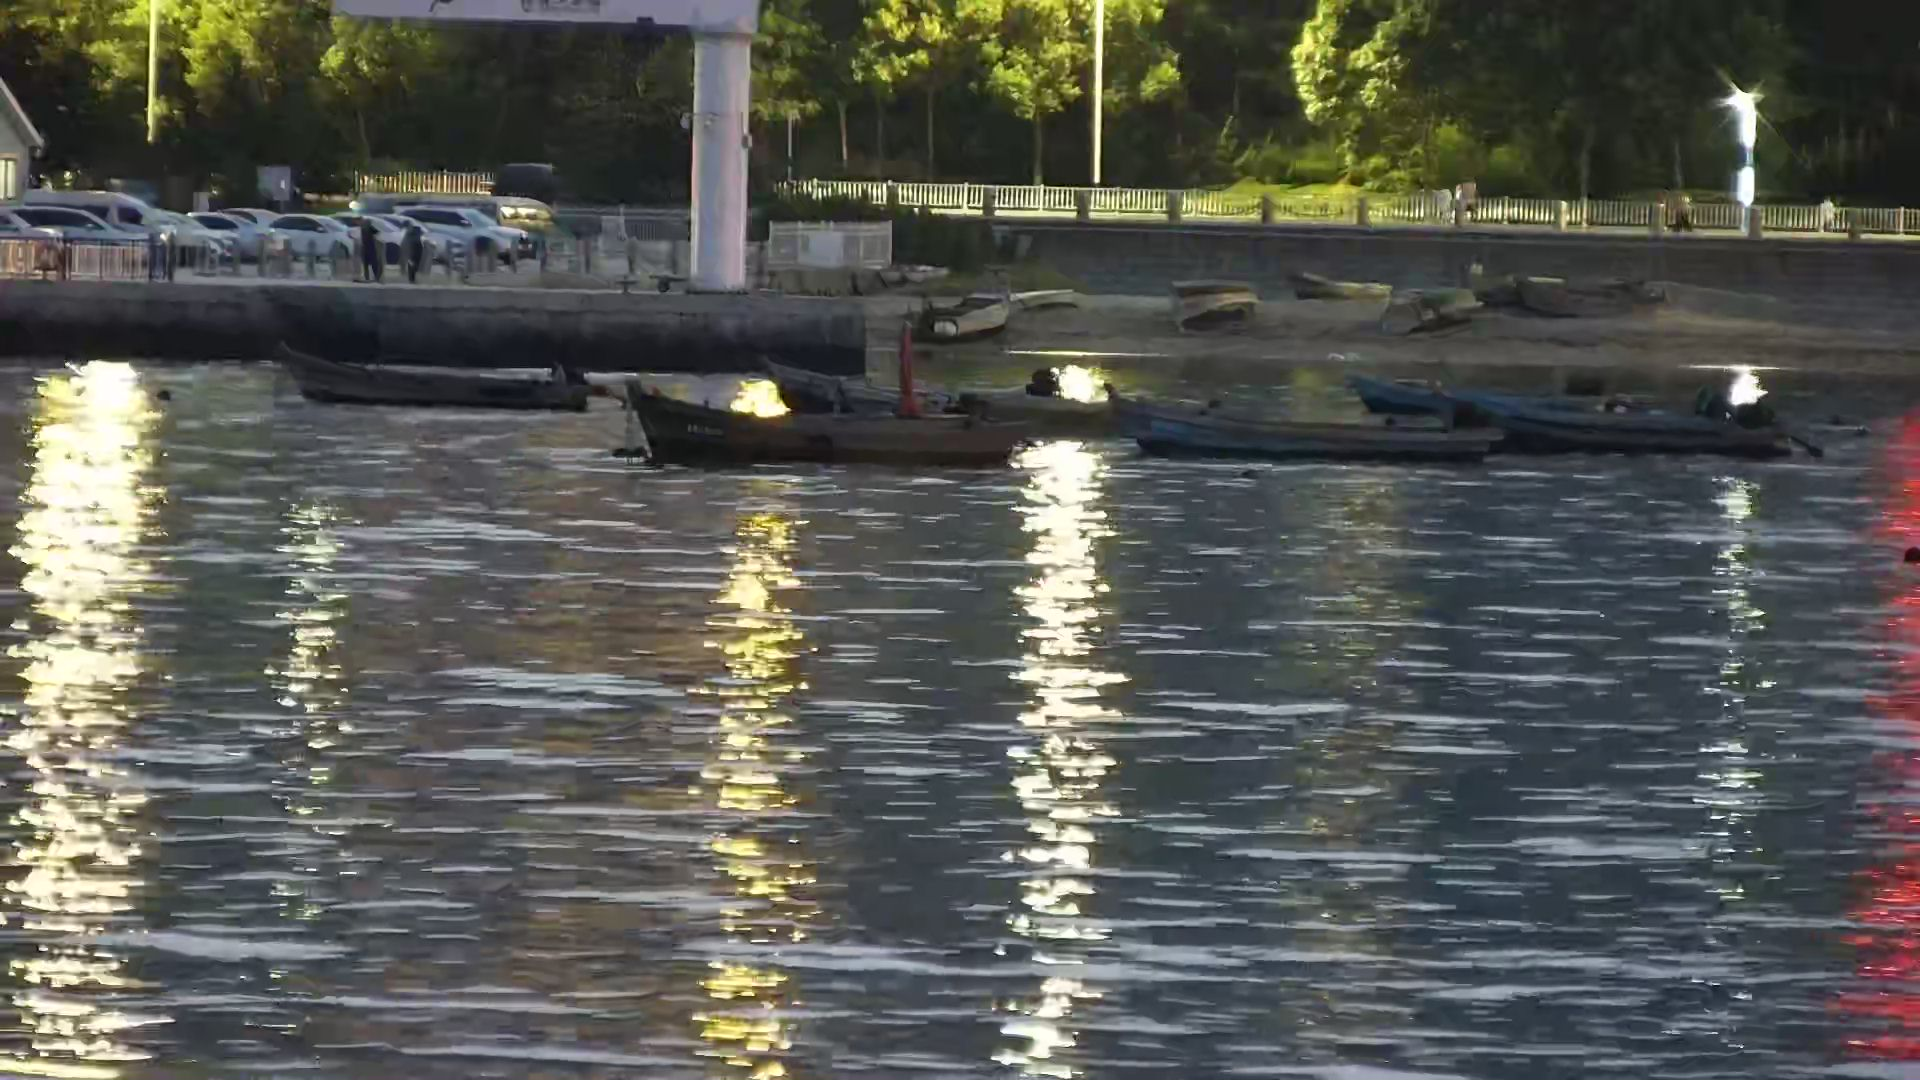boat: (603, 378, 1019, 483), (1116, 386, 1501, 477), (1460, 384, 1813, 469), (282, 342, 599, 422)
